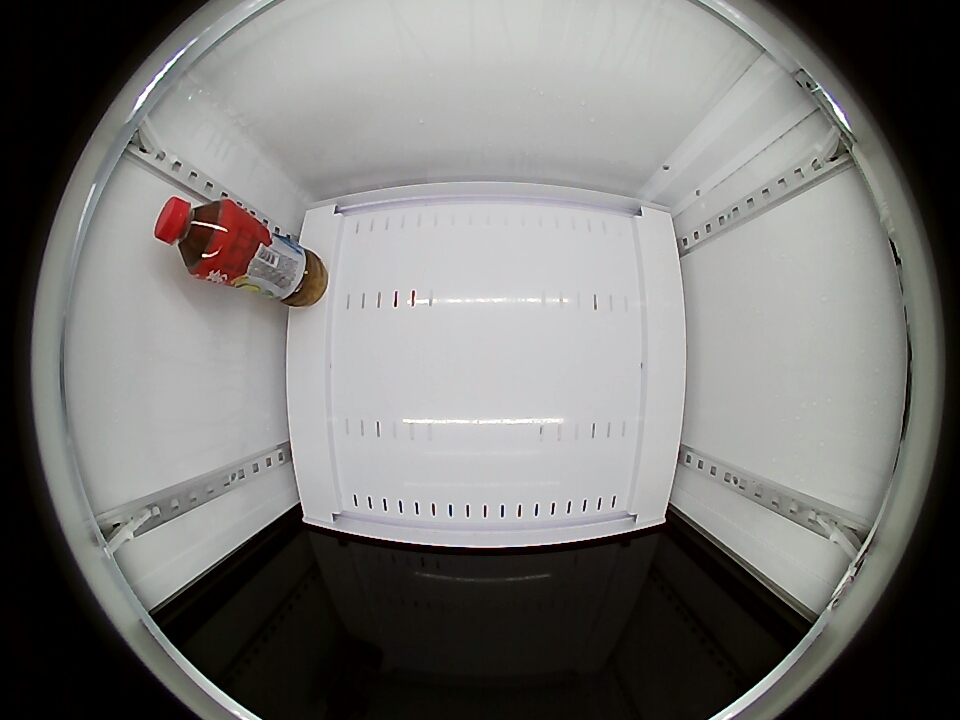binghongcha: (153, 195, 239, 279)
